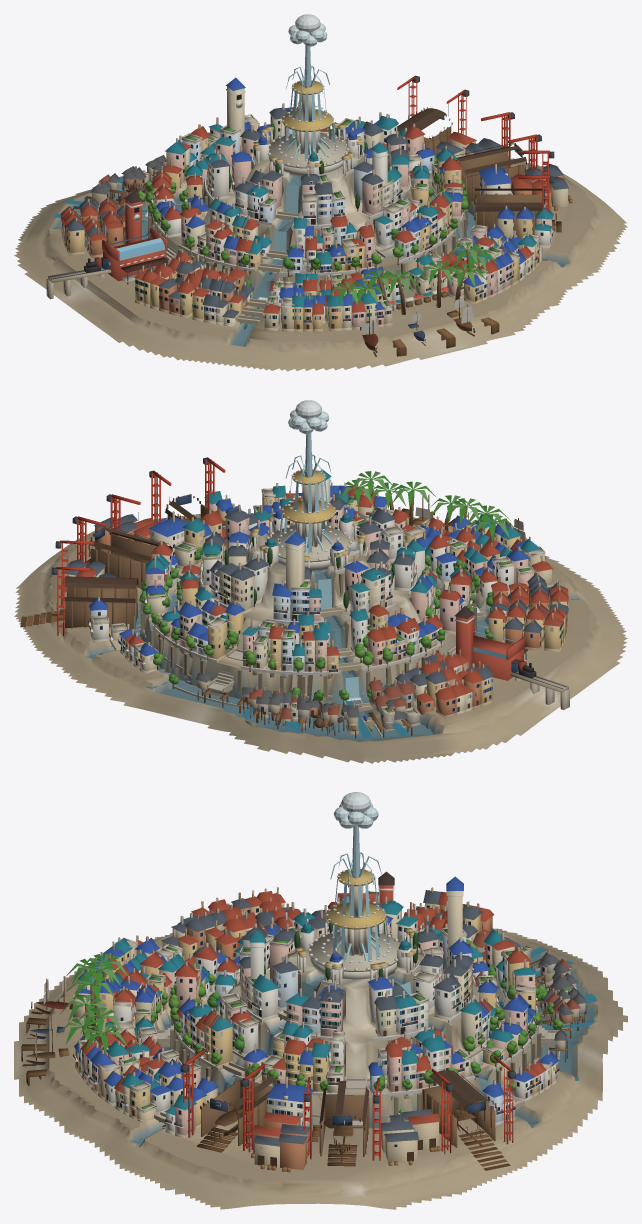
3 renders of one model, top to bottom at view 1: azimuth 30°, elevation 25°; view 2: azimuth 150°, elevation 25°; view 3: azimuth 270°, elevation 25°, orthographic. The views are drawn at different scales.
Visible parts, largest first — view 1: BASE, VILLE_2, VILLE_4, VILLE_3; view 2: BASE, VILLE_2, VILLE_3, VILLE_4; view 3: BASE, VILLE_2, VILLE_3, VILLE_4.
Part boxes in pixels (x1=…): BASE: x1=14, y1=14, x2=627, y2=371; VILLE_2: x1=60, y1=75, x2=554, y2=345; VILLE_4: x1=226, y1=77, x2=388, y2=356; VILLE_3: x1=79, y1=115, x2=561, y2=329; BASE: x1=14, y1=400, x2=627, y2=763; VILLE_2: x1=20, y1=479, x2=568, y2=718; VILLE_3: x1=76, y1=457, x2=476, y2=731; VILLE_4: x1=200, y1=469, x2=529, y2=620; BASE: x1=14, y1=792, x2=627, y2=1209; VILLE_2: x1=26, y1=887, x2=536, y2=1170; VILLE_3: x1=162, y1=910, x2=571, y2=1152; VILLE_4: x1=31, y1=876, x2=463, y2=1037.
Size of the model in its own units: 68.91 by 29.3 by 61.
